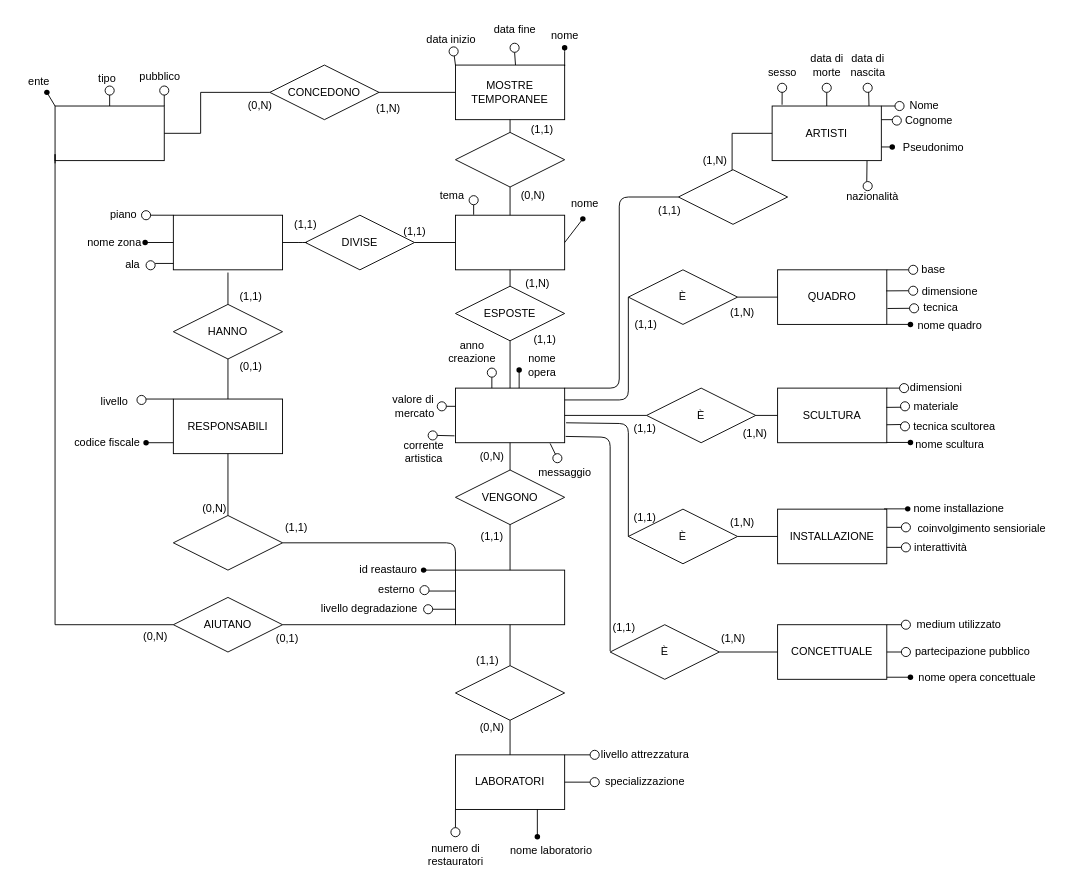
The diagram is 1069 pixels wide and 888 high, and some of its shapes have lost their labels. The shapes that lost their labels are listed below. From the top down, each one's centre as x and y in pixels, then its label:
the point at 109,133: COLLABORAZIONI
the point at 510,159: SONO
the point at 732,196: FATTE DA
the point at 227,242: ZONE
the point at 510,242: MOSTRE
the point at 510,415: OPERE
the point at 227,542: COORDINANO
the point at 510,597: RESTAURI
the point at 510,692: IN
